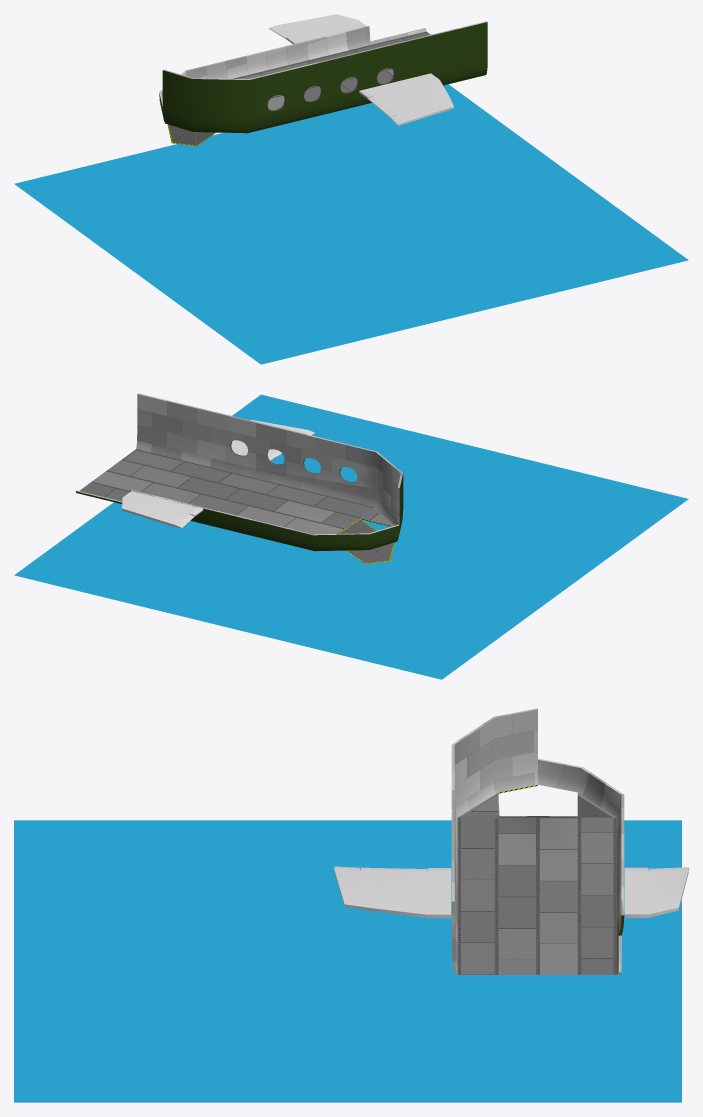
Rendered from waitingRoom.fbx.
3 views of the same model, one above another, from view 1: azimuth 30°, elevation 25°; view 2: azimuth 150°, elevation 25°; view 3: azimuth 270°, elevation 25° (orthographic). The views are drawn at different scales.
Visible parts, largest first — view 1: Sky, AirPlane, Wings; view 2: Sky, AirPlane, Wings; view 3: Sky, AirPlane, Wings.
Boxes of the visible parts, x1,y1,x2,y2 form: Sky: (14,84,688,364); AirPlane: (159,21,487,146); Wings: (269,14,453,125); Sky: (14,394,688,679); AirPlane: (75,393,403,564); Wings: (122,420,314,528); Sky: (14,820,681,1102); AirPlane: (451,708,624,974); Wings: (334,866,688,917).
Size of the model in its own units: 5031 by 1454 by 5084.
